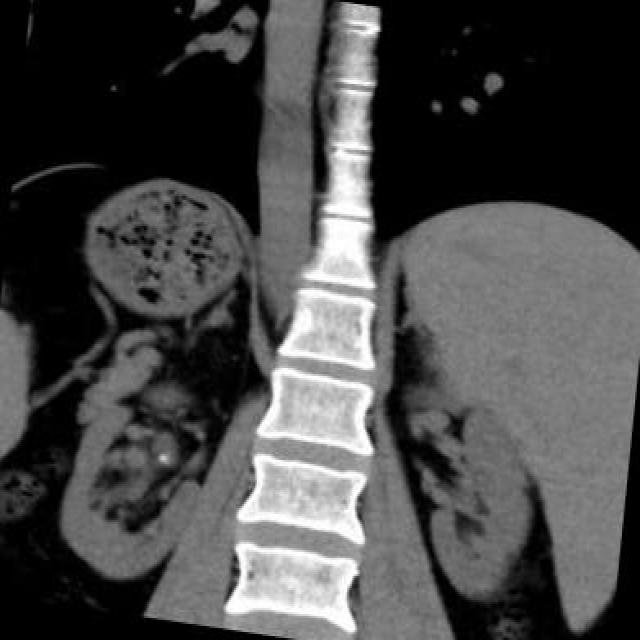Tas_Var: (154, 447, 172, 467)
